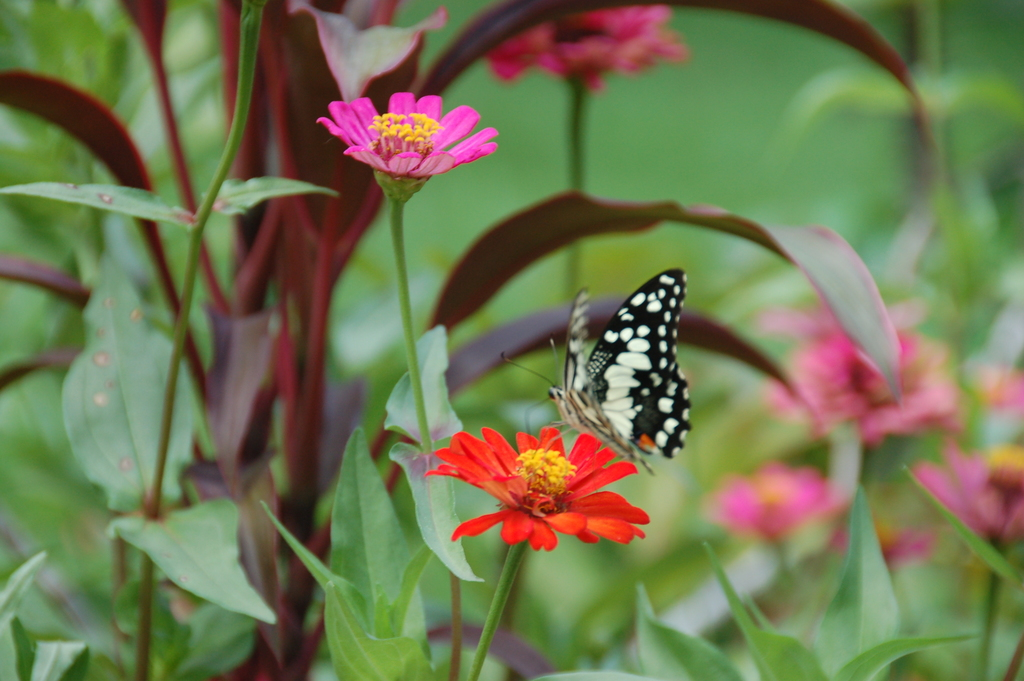Butterfly: (540, 258, 700, 473)
